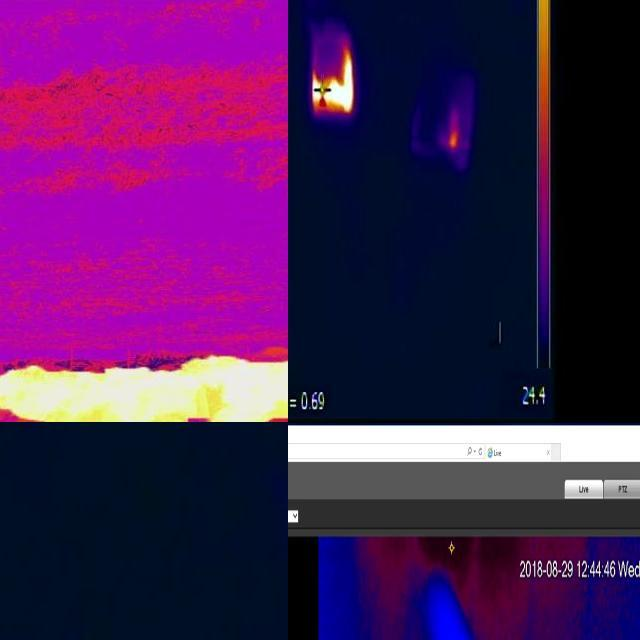fire: (1, 360, 289, 423), (310, 42, 357, 120)
